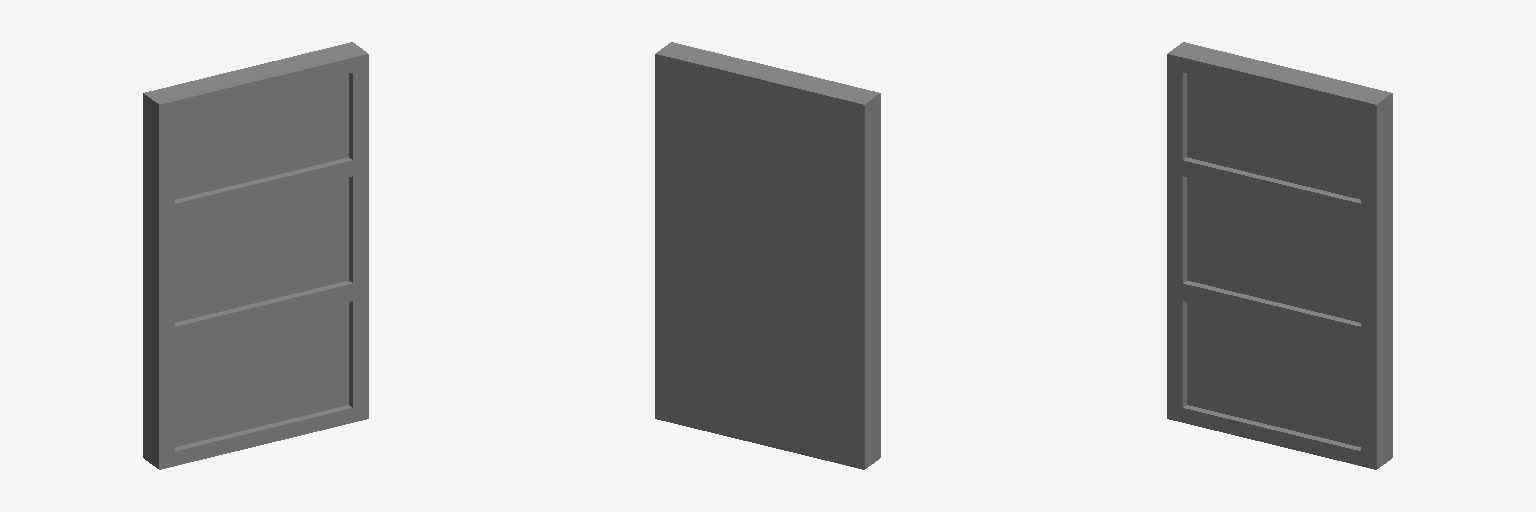
The model's file is porte.obj.
3 renders of one model, left to right at view 1: azimuth 30°, elevation 25°; view 2: azimuth 150°, elevation 25°; view 3: azimuth 330°, elevation 25°, orthographic.
Visible parts, largest first — view 1: Box001; view 2: Box001; view 3: Box001.
Boxes of the visible parts, x1,y1,x2,y2 form: Box001: [143, 42, 368, 469]; Box001: [655, 42, 880, 469]; Box001: [1167, 42, 1392, 469].
Size of the model in its own units: 30 by 50 by 4.01.